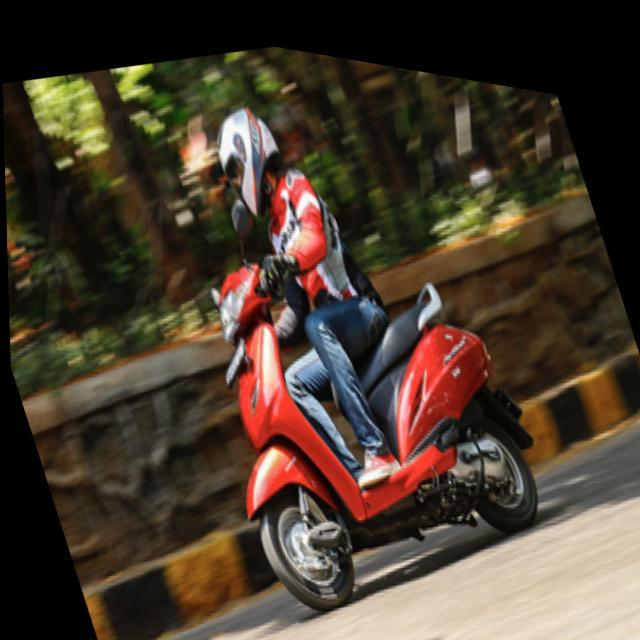Helmet: (203, 96, 291, 225)
